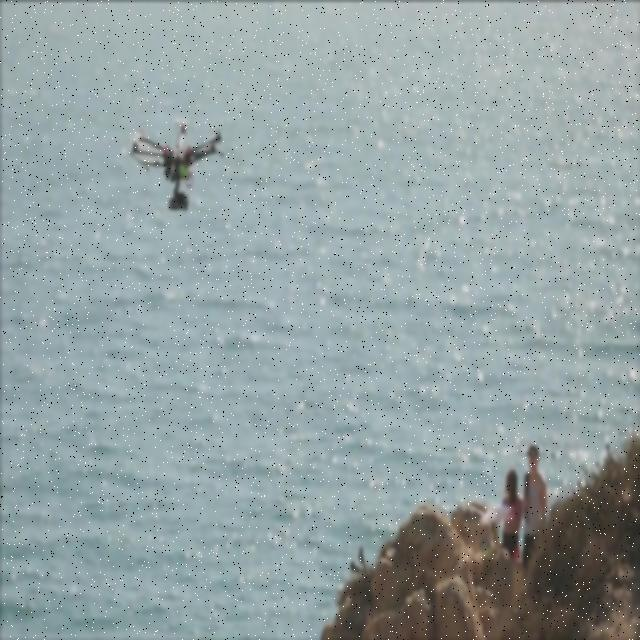UAV: (132, 119, 225, 215)
